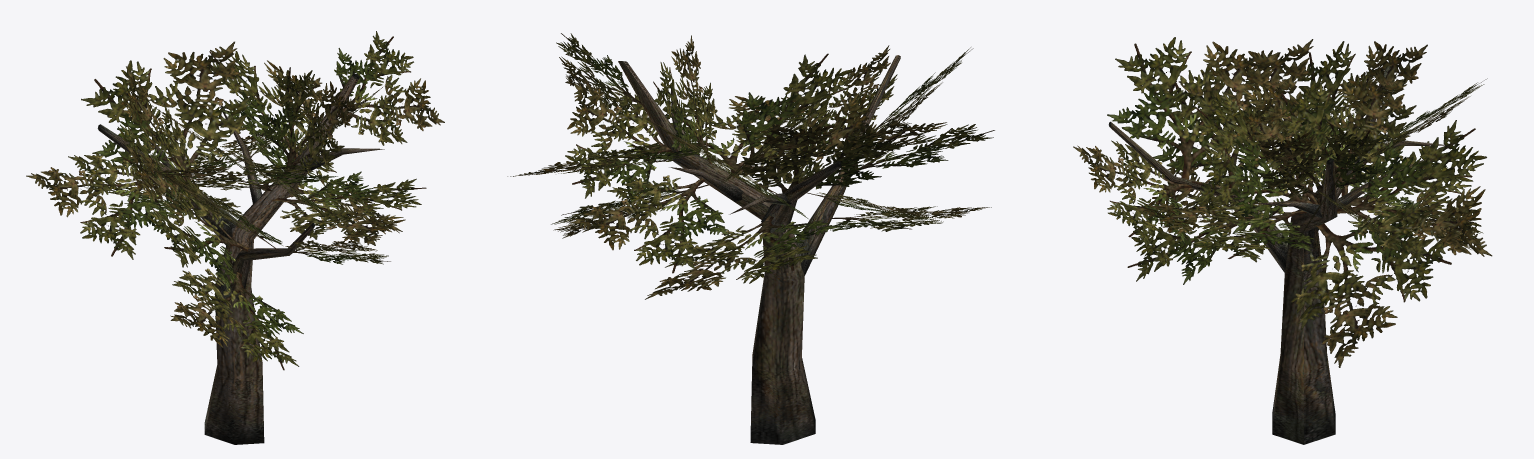
File: tree02.fbx
The picture shows the model from 3 angles, left to right: view 1: azimuth 30°, elevation 25°; view 2: azimuth 150°, elevation 25°; view 3: azimuth 270°, elevation 25°; orthographic projection. The views are drawn at different scales.
Parts seen in each view (by area): view 1: tree02; view 2: tree02; view 3: tree02.
Boxes of the visible parts, x1=… form: tree02: x1=26, y1=31, x2=444, y2=444; tree02: x1=507, y1=33, x2=994, y2=444; tree02: x1=1073, y1=37, x2=1492, y2=444.
Bounding box in the file's own units: 1258 × 1097 × 1204.
